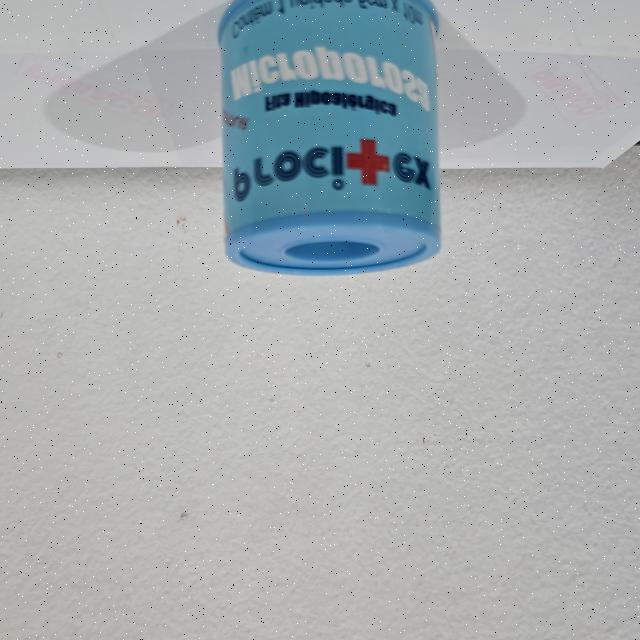procitex: (216, 0, 445, 280)
